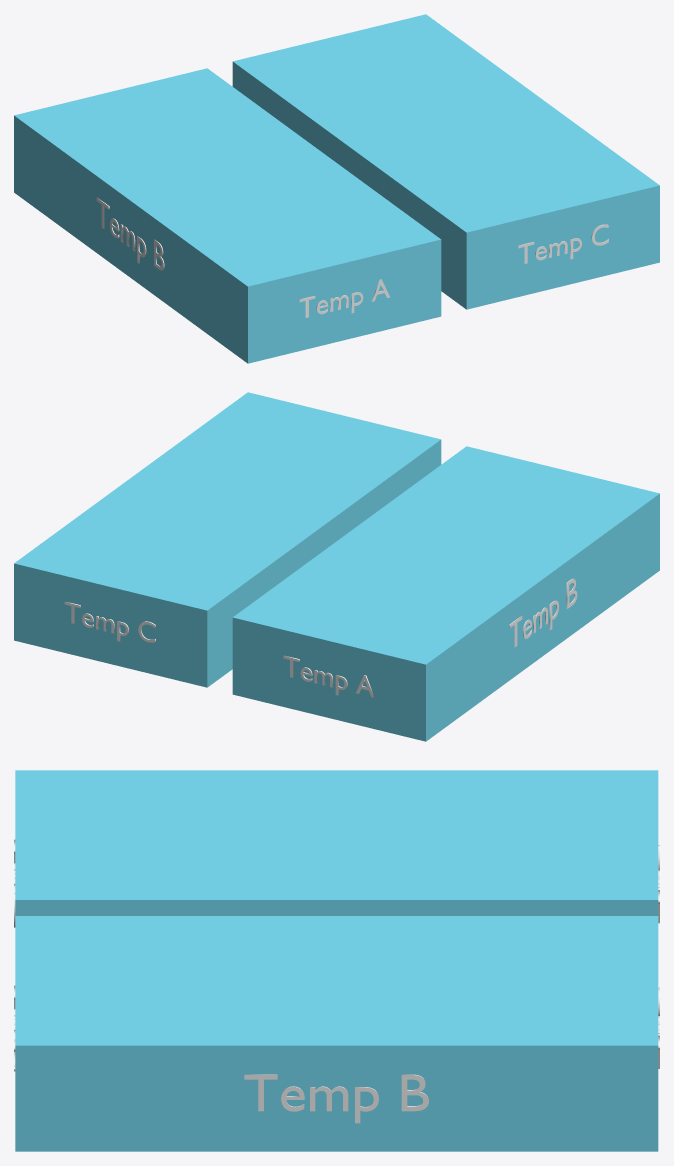
The model's file is block_5.gltf.
3 renders of one model, top to bottom at view 1: azimuth 30°, elevation 25°; view 2: azimuth 150°, elevation 25°; view 3: azimuth 270°, elevation 25°, orthographic. The views are drawn at different scales.
Visible parts, largest first — view 1: r5_50x2_1, r5_50x2_2; view 2: r5_50x2_1, r5_50x2_2; view 3: r5_50x2_2, r5_50x2_1.
Boxes of the visible parts, x1,y1,x2,y2 form: r5_50x2_1: [14, 68, 441, 363]; r5_50x2_2: [232, 14, 659, 309]; r5_50x2_1: [232, 446, 659, 741]; r5_50x2_2: [14, 392, 441, 687]; r5_50x2_2: [14, 916, 659, 1151]; r5_50x2_1: [14, 770, 659, 927].
Size of the model in its own units: 0.1123 by 0.0202 by 0.1105.
